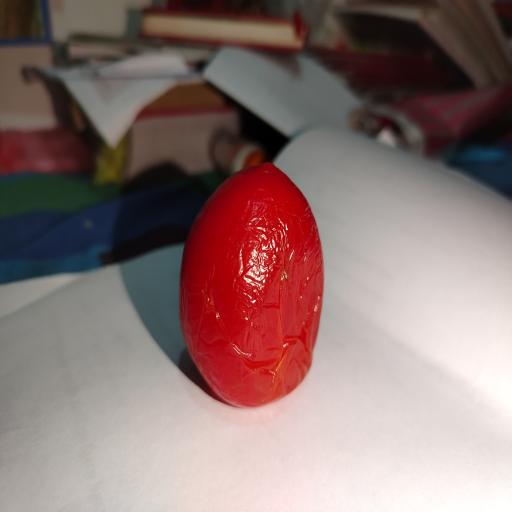spoiled: (179, 164, 323, 406)
